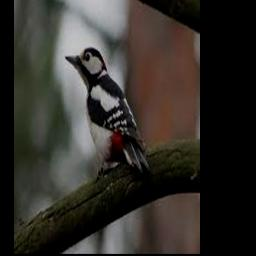Woodpecker: (64, 48, 149, 180)
